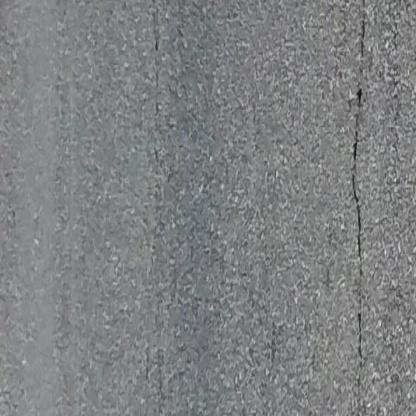Cracks: (328, 0, 400, 403)
